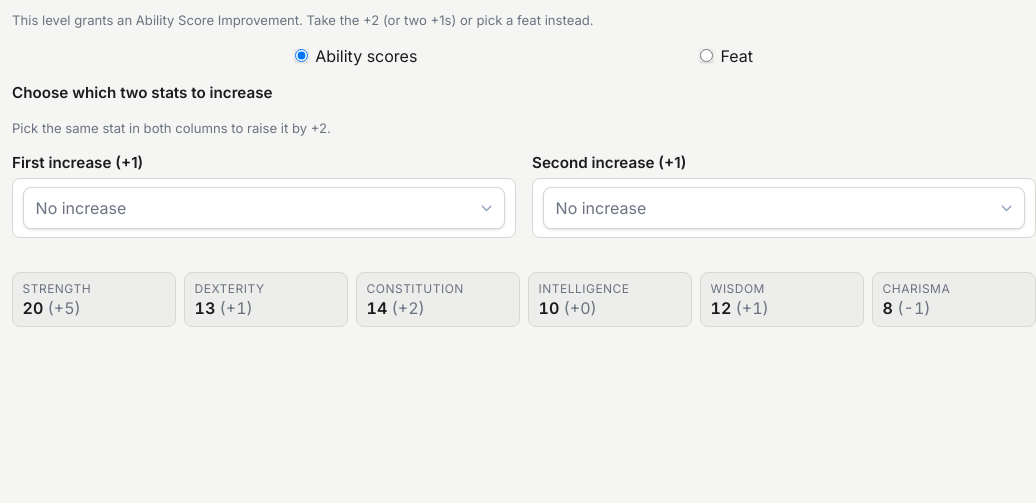
Test: LevelUpAdvancementStep — the ability score ceiling › still offers a 20 when a feature raised its ceiling
Click the button with aria-label "First increase" at {"x": 81, "y": 208}, box [23, 187, 505, 229]
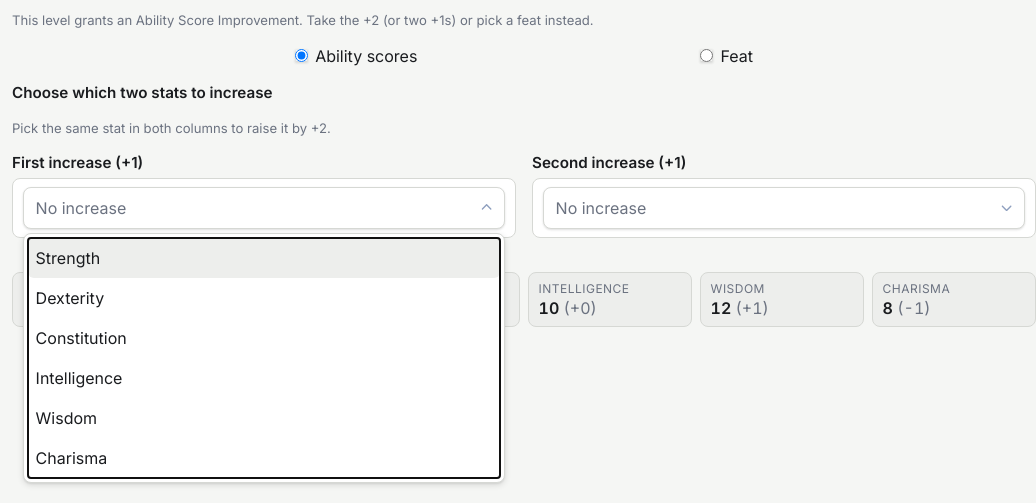
Expected: the option "Strength" is shown, [28, 238, 500, 278]
